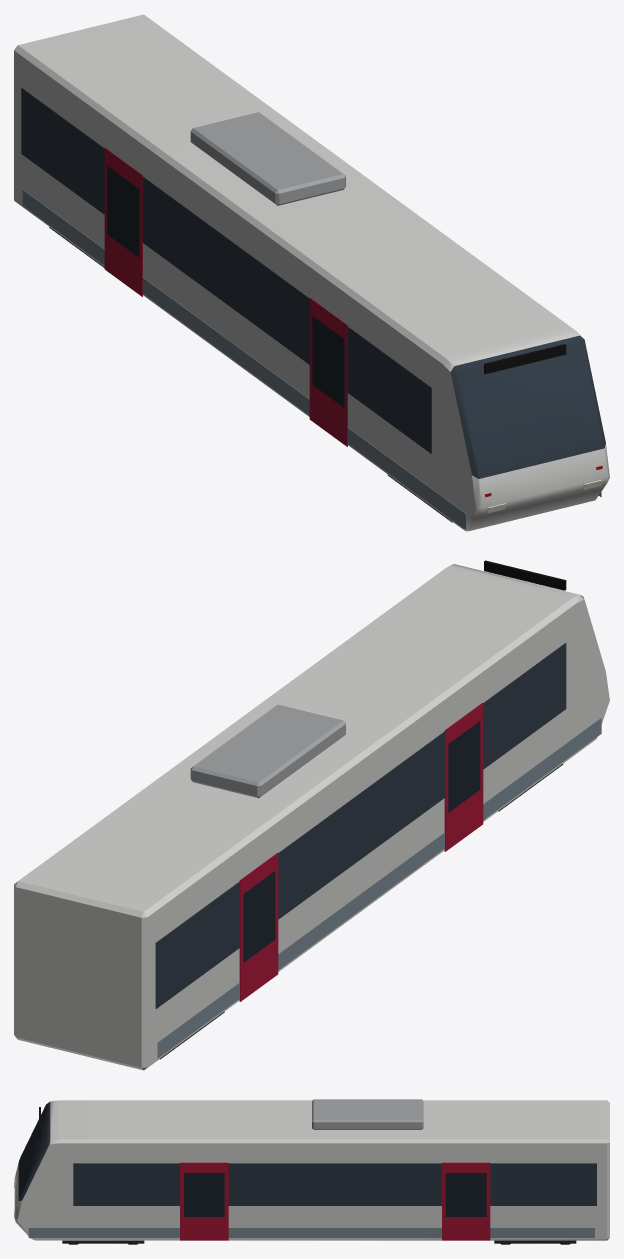
The model's file is rame_tete.glb.
3 renders of one model, top to bottom at view 1: azimuth 30°, elevation 25°; view 2: azimuth 150°, elevation 25°; view 3: azimuth 270°, elevation 25°, orthographic. The views are drawn at different scales.
Parts seen in each view (by area): view 1: rame_tete; view 2: rame_tete; view 3: rame_tete.
Boxes of the visible parts, <box> form: rame_tete: <box>14,14,609,531</box>; rame_tete: <box>14,560,609,1070</box>; rame_tete: <box>14,1099,609,1244</box>.
Bounding box in the file's own units: 2.69 × 3.63 × 16.
